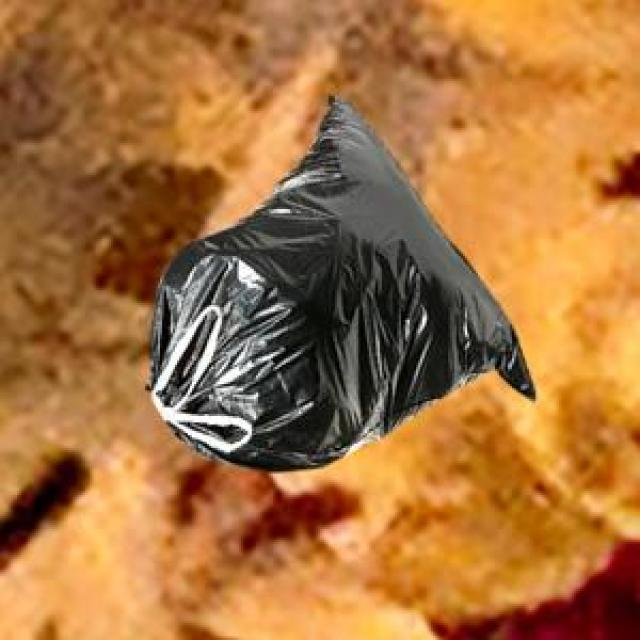waste: (150, 99, 535, 471)
